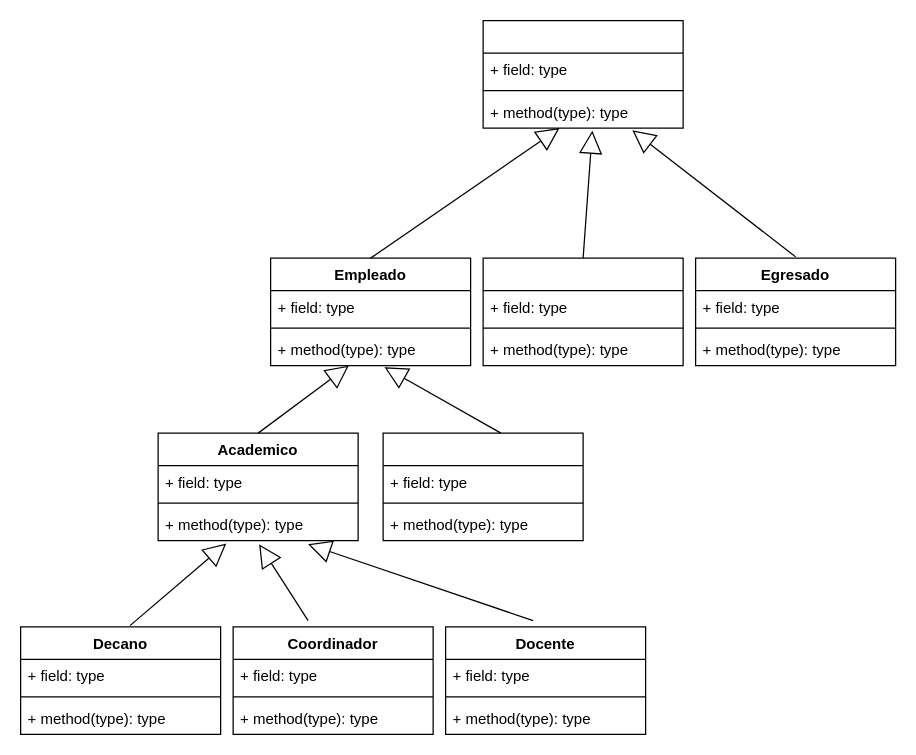
Some shapes in this 916 by 755 pixel diagram are drawn without their labels. Here are the shapes that lost their labels. From the top down, the box of each, then its label:
(482, 19, 683, 128): Persona
(482, 257, 683, 366): Estudiante
(382, 432, 583, 541): Administrativo
